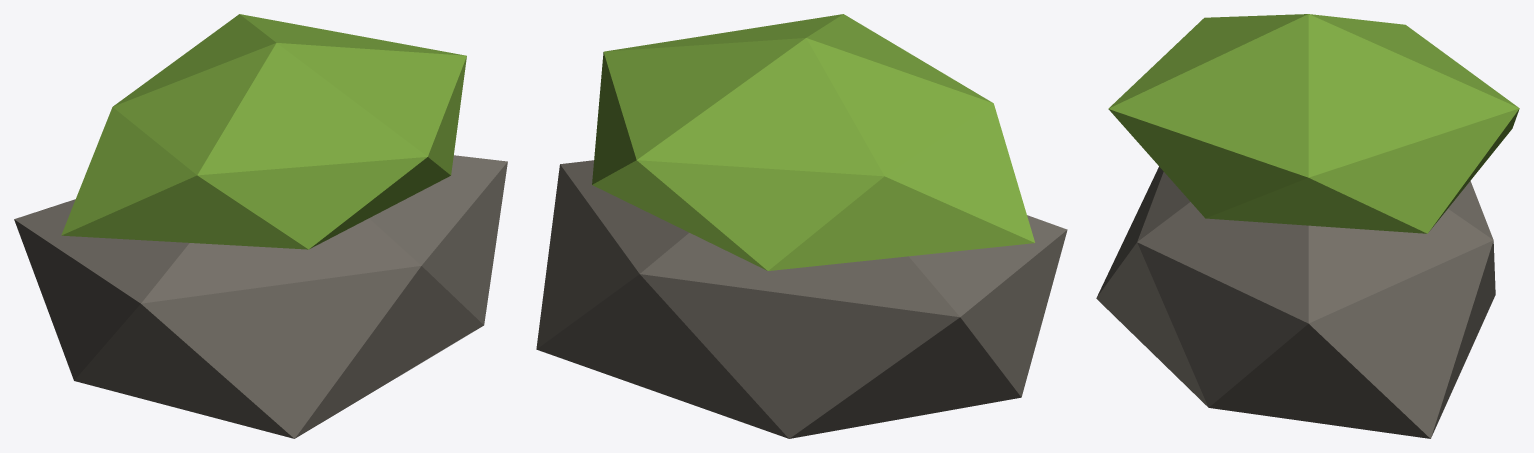
File: HS_LP_Rock_Small_Moss_01.fbx
3 views of the same model, side by side, from view 1: azimuth 30°, elevation 25°; view 2: azimuth 150°, elevation 25°; view 3: azimuth 270°, elevation 25° (orthographic). The views are drawn at different scales.
Parts seen in each view (by area): view 1: HS_LP_Rock_Small_Moss_01; view 2: HS_LP_Rock_Small_Moss_01; view 3: HS_LP_Rock_Small_Moss_01.
Part boxes in pixels (x1,y1,x2,y2): HS_LP_Rock_Small_Moss_01: (14,14,507,438); HS_LP_Rock_Small_Moss_01: (536,14,1067,438); HS_LP_Rock_Small_Moss_01: (1096,14,1519,438).
Size of the model in its own units: 48.18 by 38.41 by 36.8.
